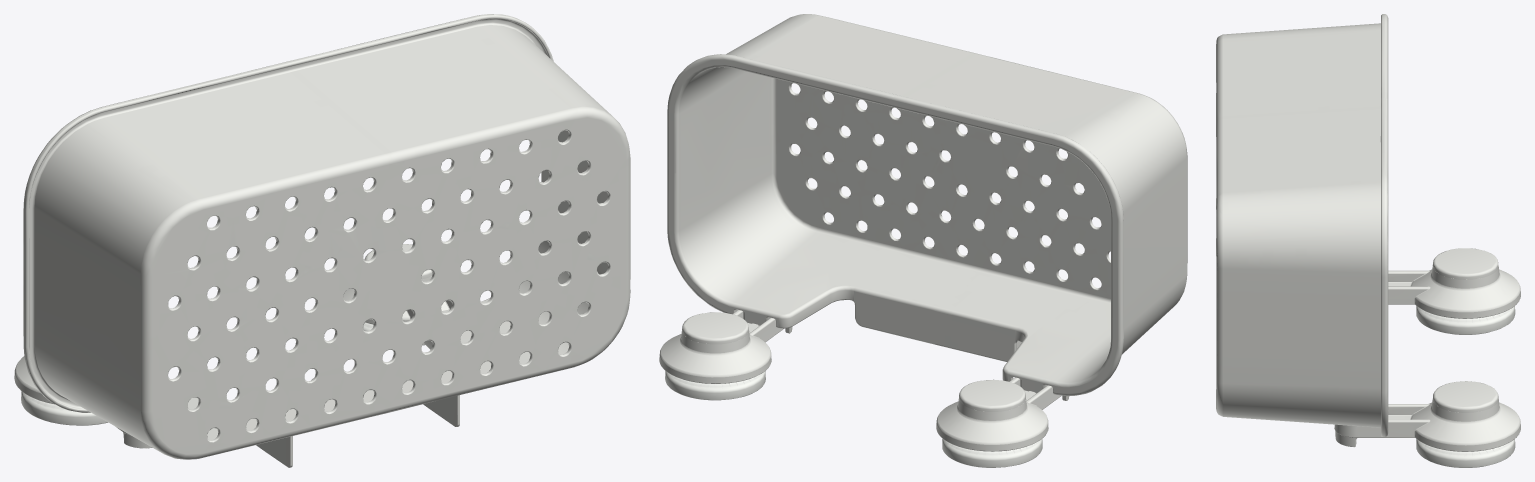
Rendered from tisken_kosz_z_przyssawkami_40381253.glb.
3 views of the same model, side by side, from view 1: azimuth 30°, elevation 25°; view 2: azimuth 150°, elevation 25°; view 3: azimuth 270°, elevation 25° (orthographic). The views are drawn at different scales.
Parts seen in each view (by area): view 1: tisken_kosz_z_przyssawkami_40381253; view 2: tisken_kosz_z_przyssawkami_40381253; view 3: tisken_kosz_z_przyssawkami_40381253.
Part boxes in pixels (left/top/right/bottom): tisken_kosz_z_przyssawkami_40381253: left=14, top=14, right=630, bottom=467; tisken_kosz_z_przyssawkami_40381253: left=659, top=14, right=1187, bottom=467; tisken_kosz_z_przyssawkami_40381253: left=1216, top=14, right=1520, bottom=467.
Size of the model in its own units: 0.2861 by 0.1727 by 0.1685.
2 materials, 2 textured.
